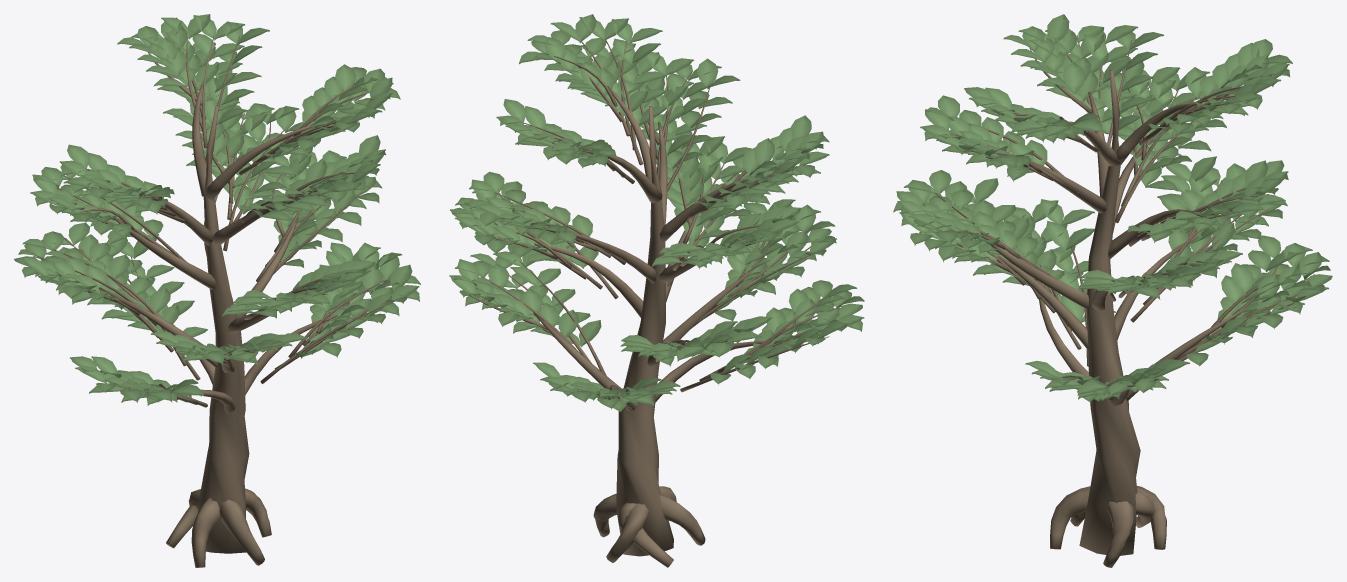
The model's file is alder.glb.
3 views of the same model, side by side, from view 1: azimuth 30°, elevation 25°; view 2: azimuth 150°, elevation 25°; view 3: azimuth 270°, elevation 25° (orthographic). The views are drawn at different scales.
Parts seen in each view (by area): view 1: GEO-alder individual veined leaves, GEO-alder branching bark; view 2: GEO-alder individual veined leaves, GEO-alder branching bark; view 3: GEO-alder individual veined leaves, GEO-alder branching bark.
Part boxes in pixels (x1,y1,x2,y2): GEO-alder individual veined leaves: (14,14,420,405); GEO-alder branching bark: (33,36,399,567); GEO-alder individual veined leaves: (449,14,864,412); GEO-alder branching bark: (469,38,841,567); GEO-alder individual veined leaves: (893,14,1332,401); GEO-alder branching bark: (921,35,1314,567).
Bounding box in the file's own units: 3.67 × 4.57 × 3.65.
